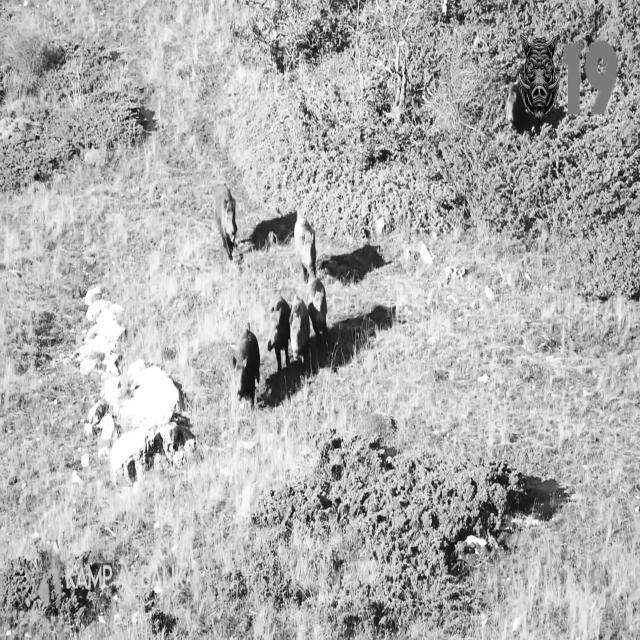boar: (236, 324, 260, 405), (213, 185, 237, 259), (268, 296, 291, 370), (290, 295, 311, 371), (294, 210, 316, 281), (307, 276, 327, 336)
